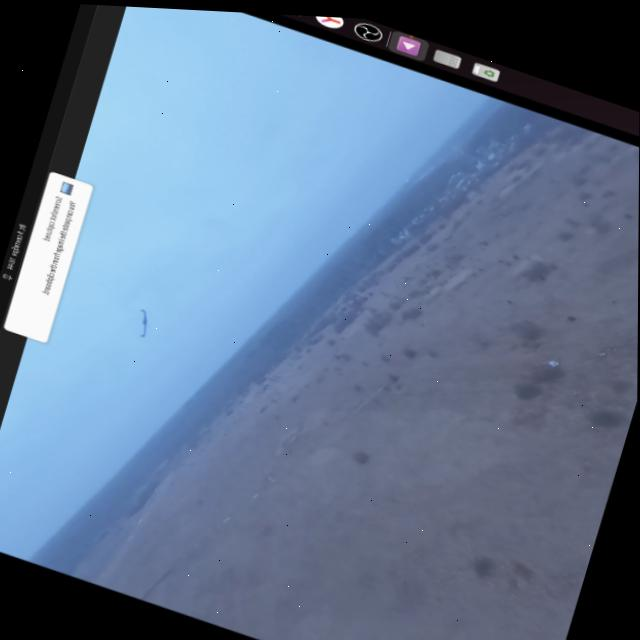planedrone: (120, 301, 160, 344)
